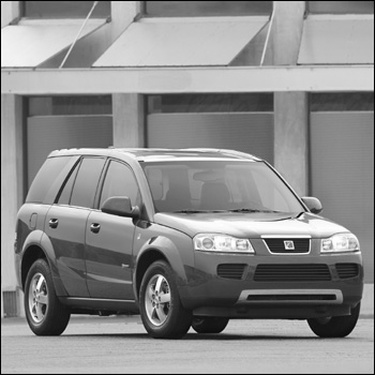car: (1, 141, 367, 329)
